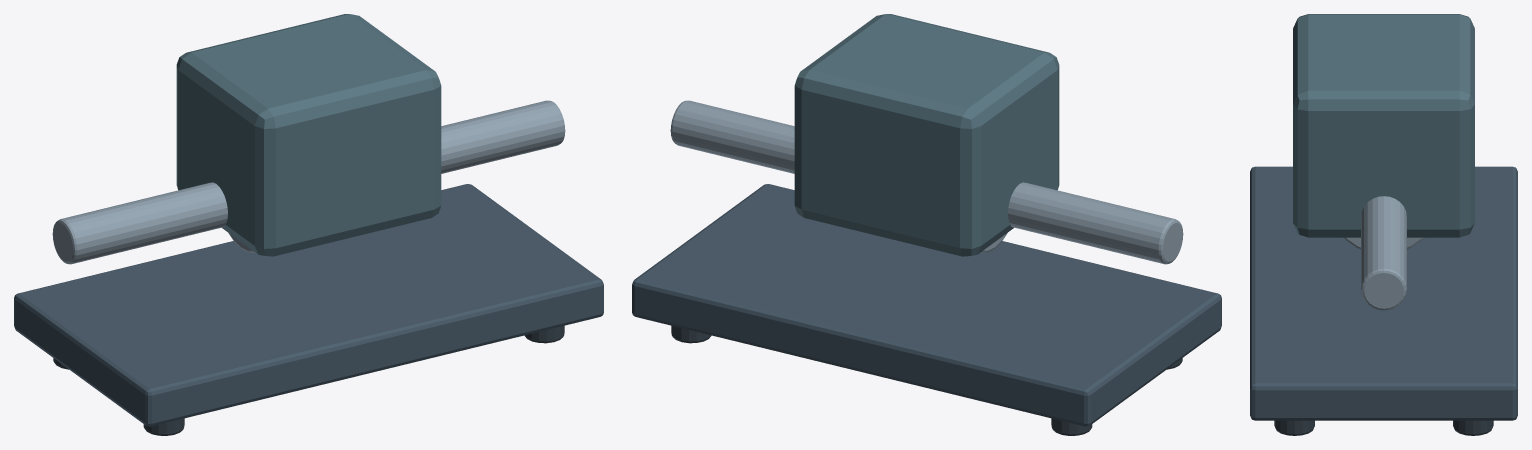
The model's file is flexible-coupling-lod1.glb.
3 renders of one model, left to right at view 1: azimuth 30°, elevation 25°; view 2: azimuth 150°, elevation 25°; view 3: azimuth 270°, elevation 25°, orthographic.
Parts seen in each view (by area): view 1: drive_base, coupling_guard, input_shaft, output_shaft; view 2: drive_base, coupling_guard, input_shaft, output_shaft; view 3: drive_base, coupling_guard, output_shaft, base_mount_1.6999999999999997_0.7000000000000001, base_mount_1.6999999999999997_-0.7000000000000001, coupling_output.
Part boxes in pixels (x1,y1,x2,y2): drive_base: [14, 184, 603, 426]; coupling_guard: [176, 14, 441, 256]; input_shaft: [52, 182, 227, 264]; output_shaft: [441, 100, 565, 173]; drive_base: [632, 184, 1221, 426]; coupling_guard: [794, 14, 1059, 256]; input_shaft: [1008, 182, 1183, 264]; output_shaft: [670, 100, 794, 173]; drive_base: [1250, 166, 1517, 420]; coupling_guard: [1293, 14, 1474, 237]; output_shaft: [1361, 196, 1406, 310]; base_mount_1.6999999999999997_0.7000000000000001: [1453, 420, 1493, 435]; base_mount_1.6999999999999997_-0.7000000000000001: [1274, 420, 1314, 435]; coupling_output: [1343, 237, 1424, 249].
Bounding box in the file's own units: 4.4 × 2.46 × 2.1.
